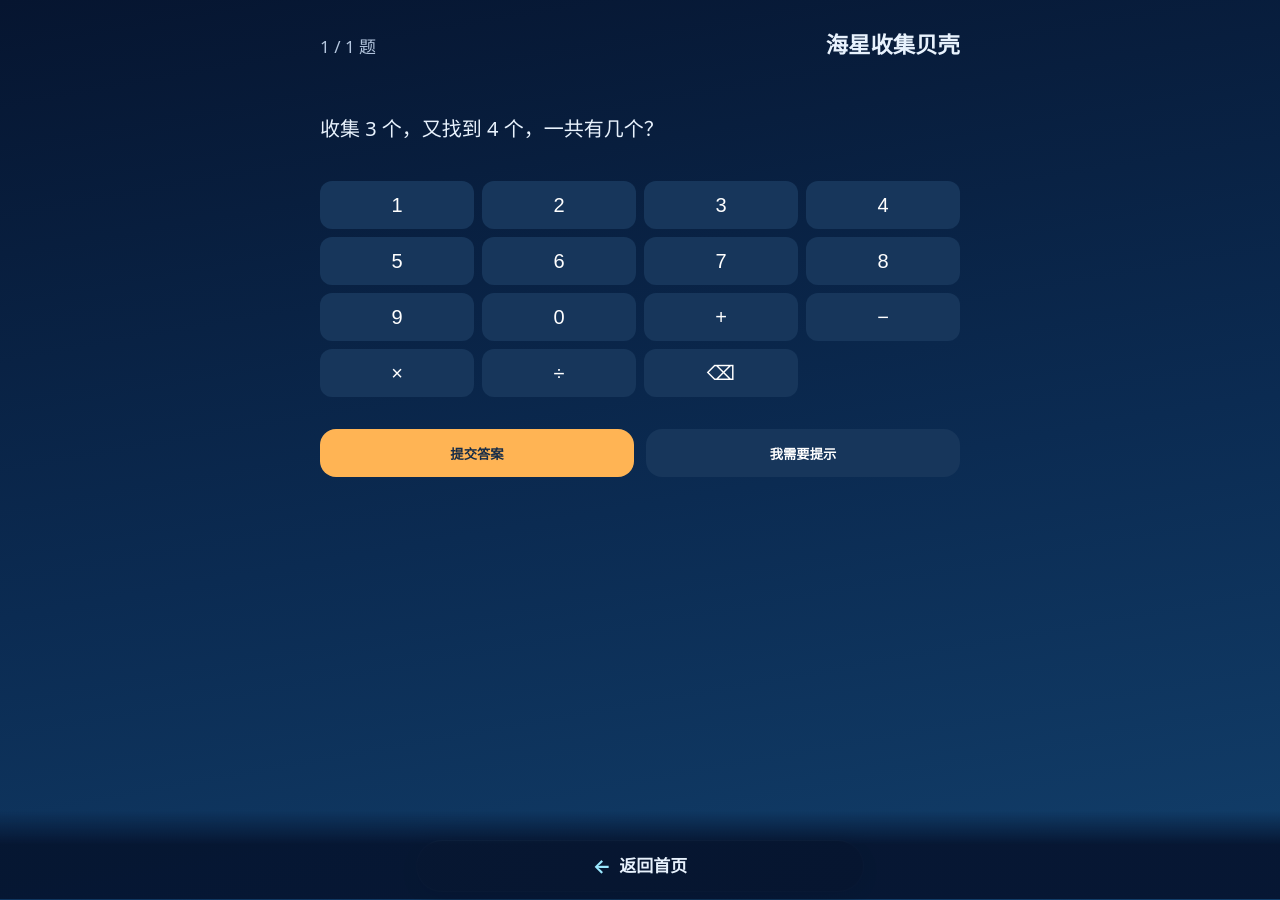
Test: QuestView feedback › 存储错误只显示中性状态，日志脱敏
Click the button "8": (883, 261) [806,237,960,285]
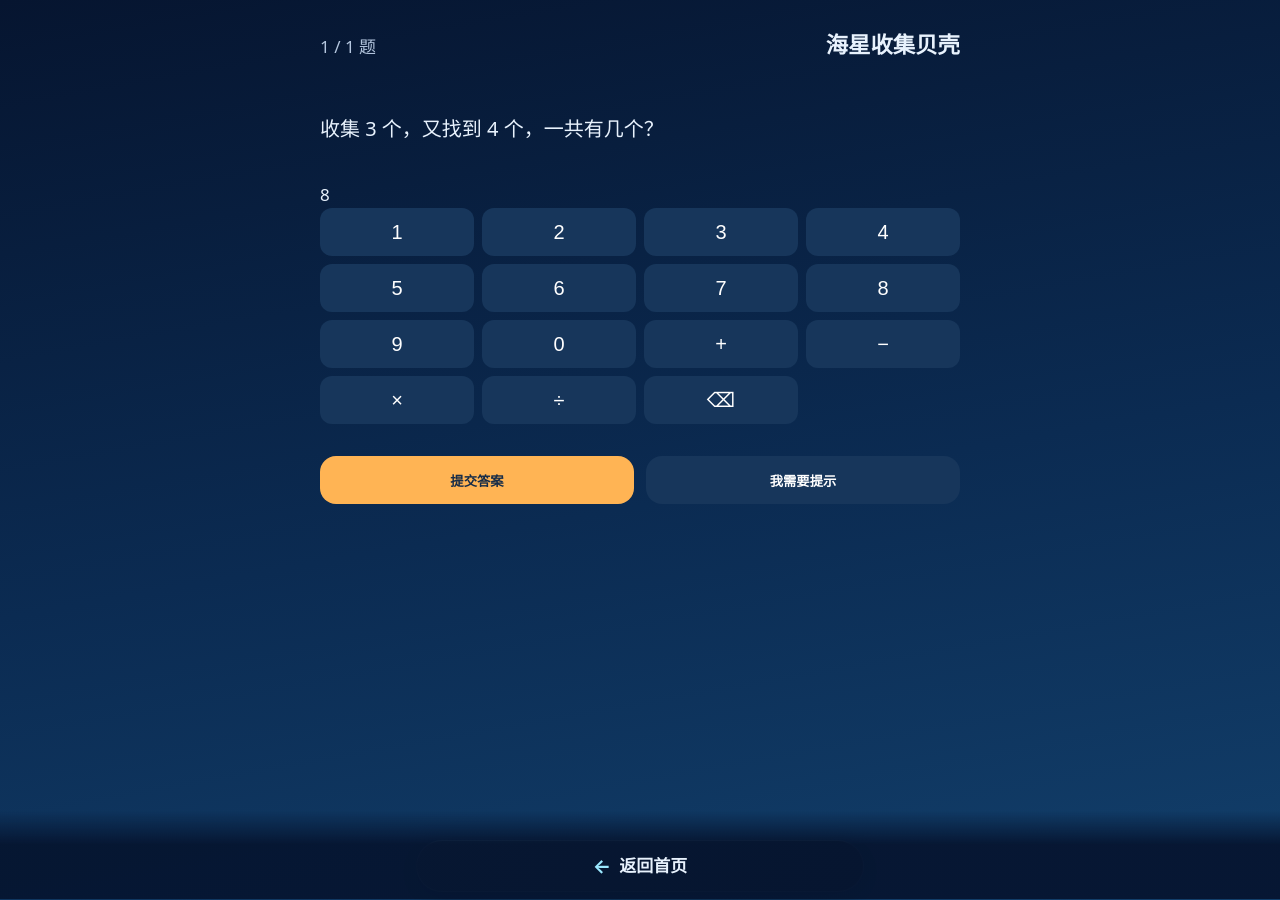
Click the button with test id "action-submit": (477, 480) [320,456,634,504]
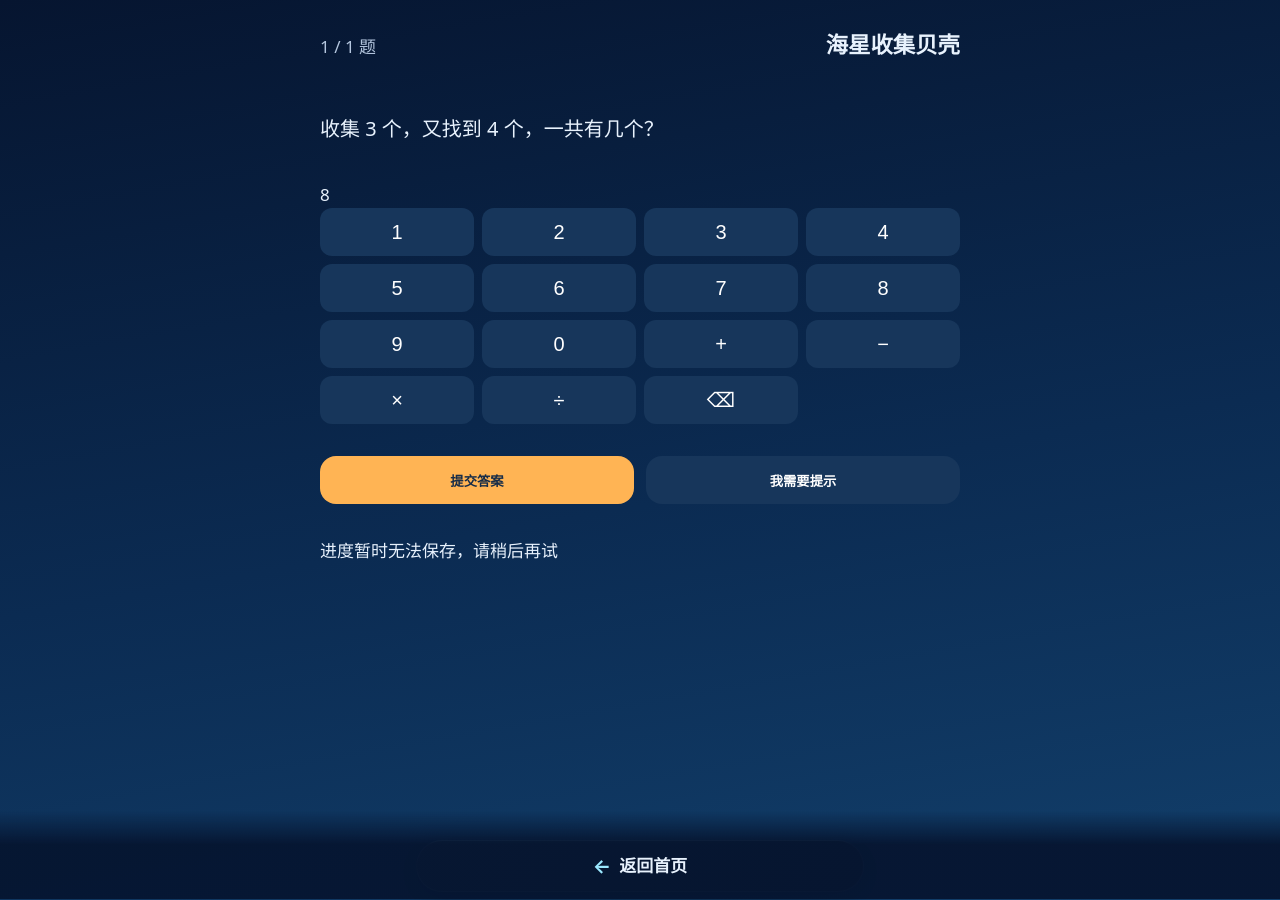
Expected: the message "进度暂时无法保存，请稍后再试" is shown, [320,539,558,562]
